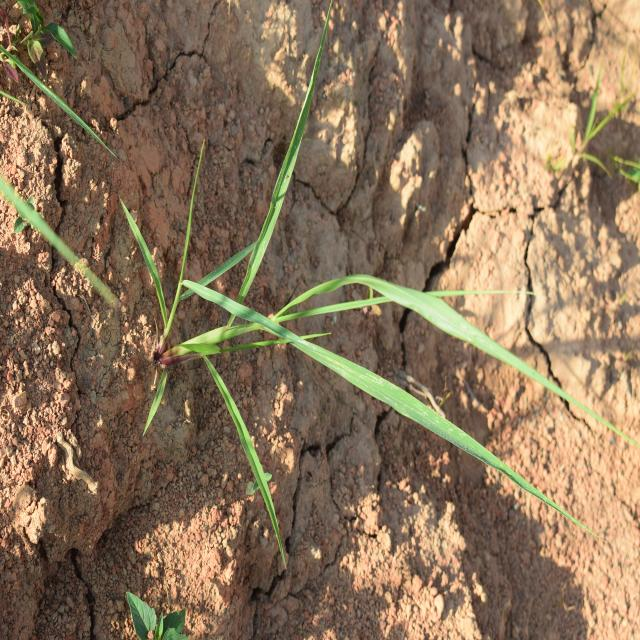green_foxtail: (156, 194, 554, 482)
